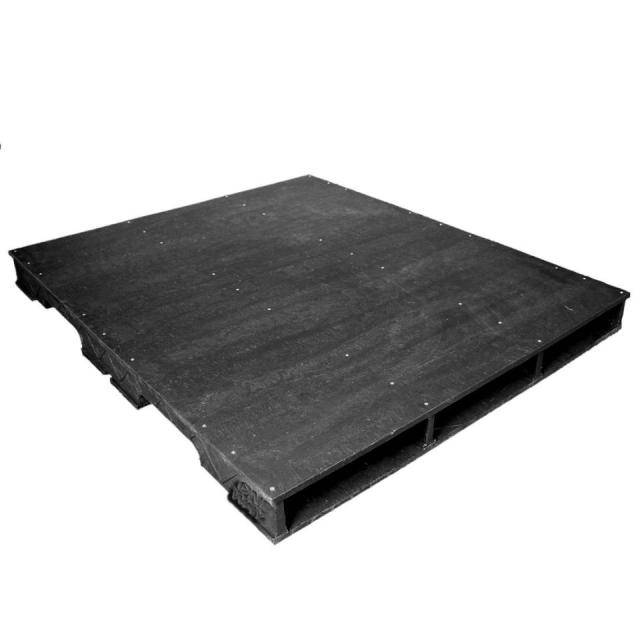non-igps: (0, 159, 636, 553)
